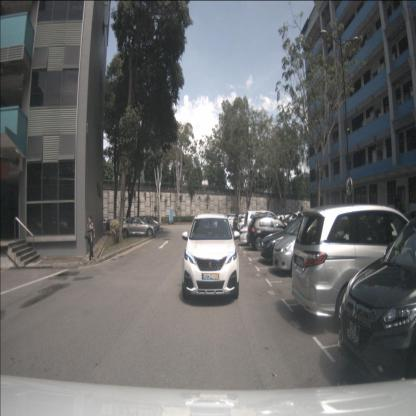human-pedestrian-adult: (85, 215, 96, 263)
vehicle-car: (290, 203, 416, 333), (337, 210, 416, 388), (182, 212, 241, 302), (272, 221, 346, 275), (341, 216, 397, 281), (260, 219, 317, 266), (246, 215, 292, 252), (244, 210, 288, 235), (120, 217, 157, 239), (240, 223, 274, 246), (131, 216, 159, 236), (289, 211, 312, 232), (213, 213, 240, 230), (281, 213, 302, 231), (234, 213, 252, 234), (116, 216, 134, 233), (226, 215, 244, 232), (141, 216, 159, 230), (96, 218, 107, 230), (106, 219, 114, 231)
